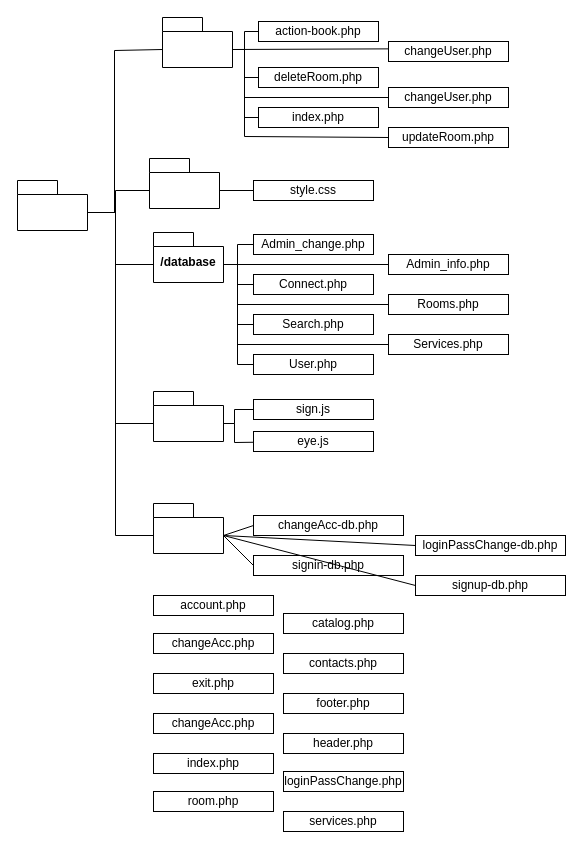
Some shapes in this 583 by 849 pixel diagram are drawn without their labels. The centre of each missing label's shape, as x and y in pixels:
/admin: pixel 197 42
/css: pixel 184 183
/js: pixel 188 416
/lion: pixel 52 205
/user: pixel 188 528
